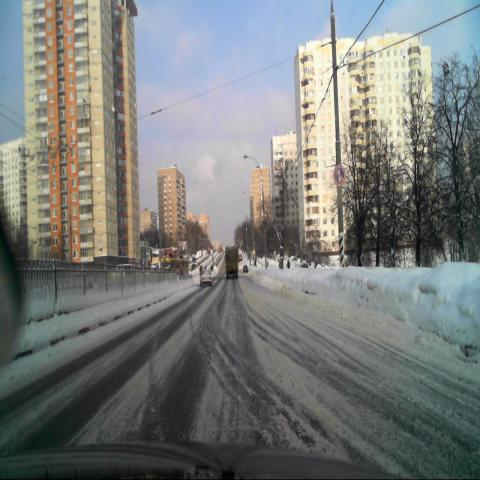3_29: (333, 164, 345, 186)
